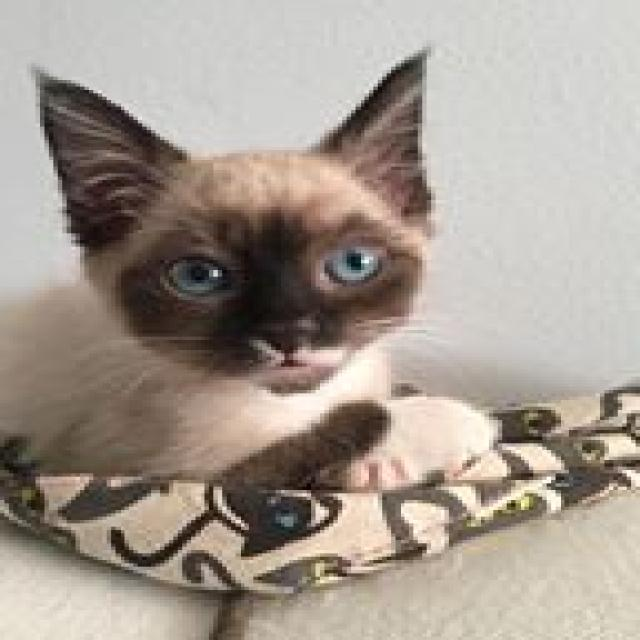Siamese: (0, 40, 507, 493)
